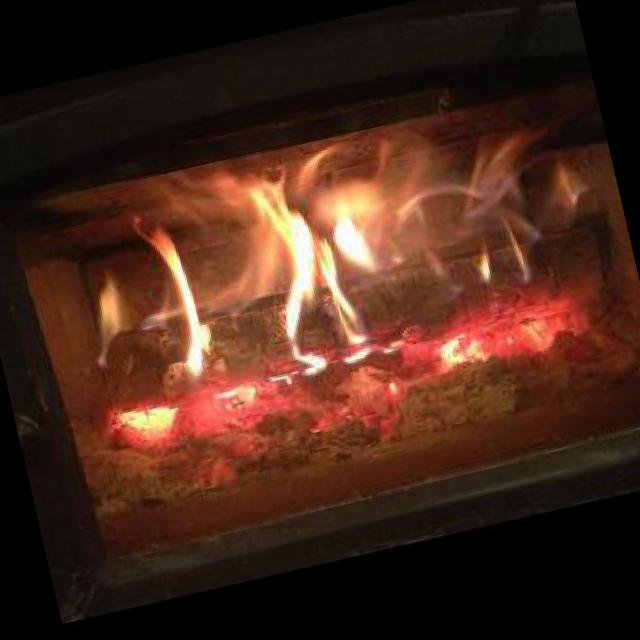fire: (48, 81, 620, 492)
